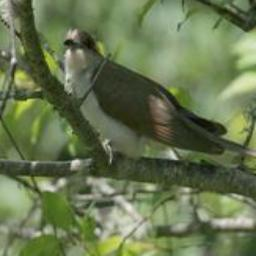Cuckoo: (64, 25, 256, 178)
